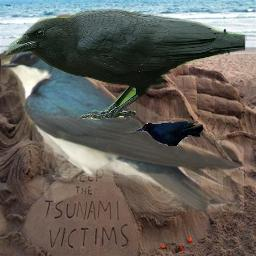Crow: (4, 9, 247, 122), (135, 121, 203, 146)
Swallow: (1, 38, 244, 212)
